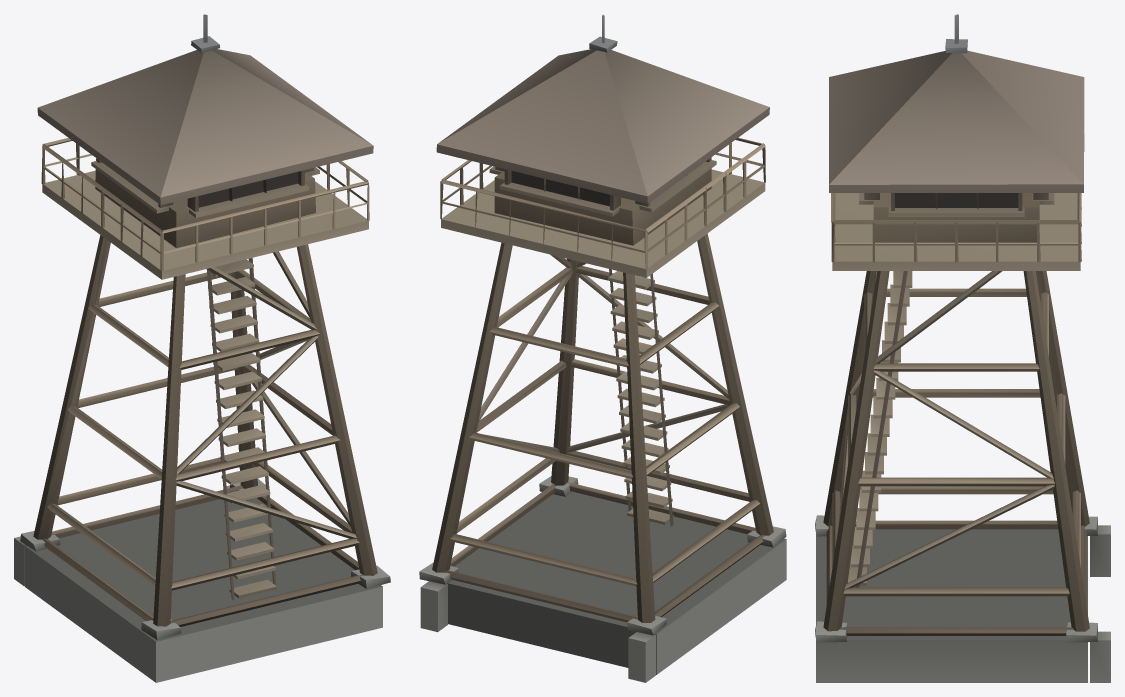
File: lookout.lod1.glb
3 views of the same model, side by side, from view 1: azimuth 30°, elevation 25°; view 2: azimuth 150°, elevation 25°; view 3: azimuth 270°, elevation 25° (orthographic). The views are drawn at different scales.
Bounding box in the file's own units: 6.2 × 14.81 × 6.48.
